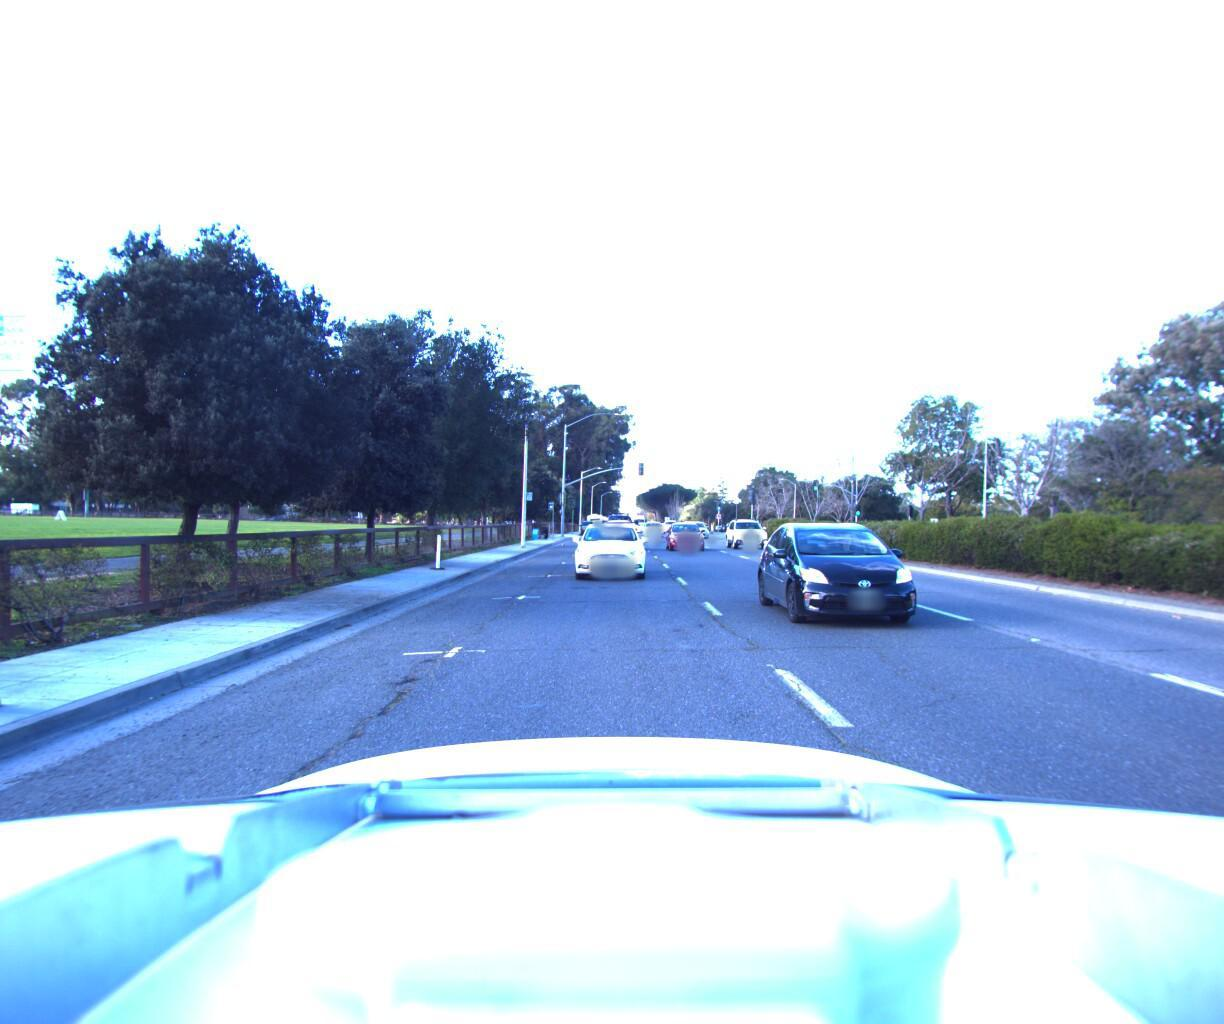car: (767, 514, 979, 647), (568, 516, 646, 579), (726, 513, 774, 547), (665, 517, 709, 550), (599, 514, 637, 547), (608, 503, 637, 538), (645, 517, 666, 535)
